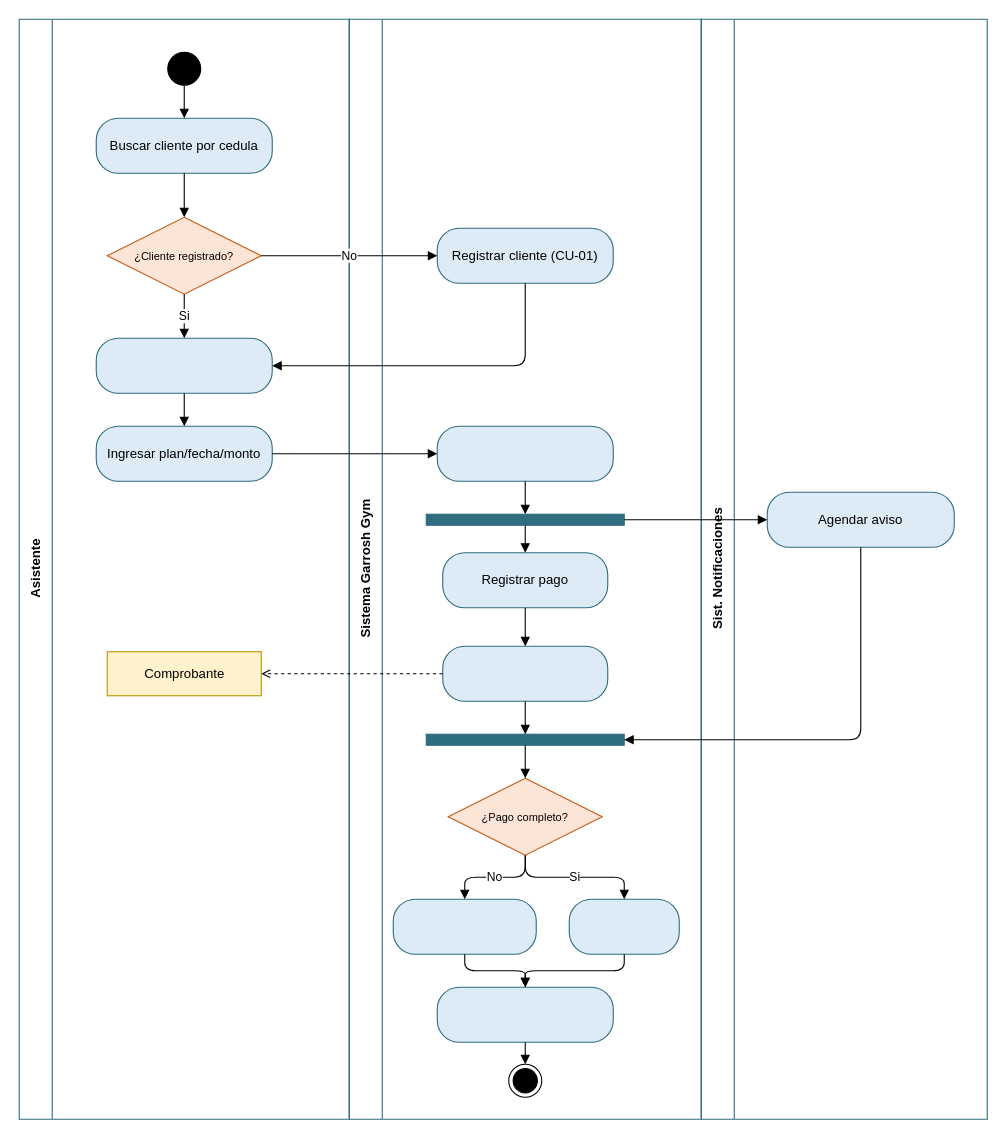
This 1007x1139 diagram has some shape labels left out. The box of each missing label's shape, as (x1, y1, x2, y2) in pixels:
Calcular vencimiento: (436, 425, 613, 481)
Confirmar operacion: (436, 986, 613, 1042)
Emitir comprobante: (442, 645, 608, 701)
Estado = Activa: (568, 898, 679, 954)
Pago parcial + saldo: (392, 898, 536, 954)
Seleccionar operacion: (95, 337, 272, 393)
